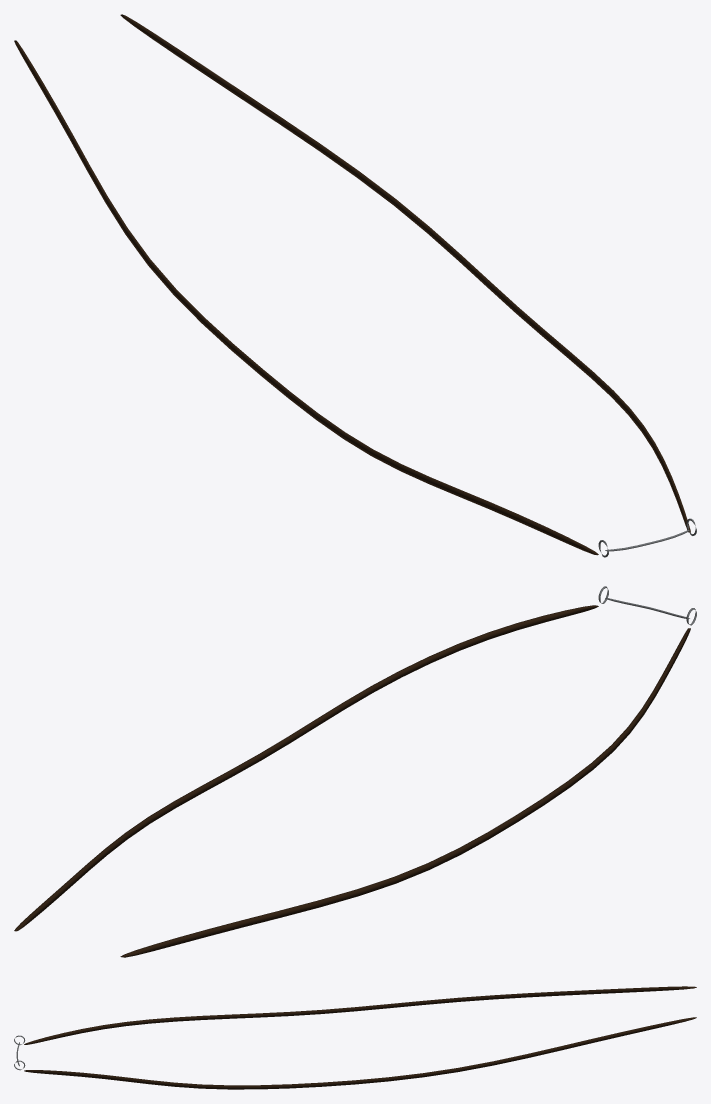
Rendered from frontier_caravan_reins_lod1.glb.
3 views of the same model, one above another, from view 1: azimuth 30°, elevation 25°; view 2: azimuth 150°, elevation 25°; view 3: azimuth 270°, elevation 25° (orthographic). The views are drawn at different scales.
Visible parts, largest first — view 1: frontier_caravan_reins_lod1; view 2: frontier_caravan_reins_lod1; view 3: frontier_caravan_reins_lod1.
Boxes of the visible parts, bbox=[...] form: frontier_caravan_reins_lod1: bbox=[14, 14, 696, 557]; frontier_caravan_reins_lod1: bbox=[14, 586, 696, 957]; frontier_caravan_reins_lod1: bbox=[14, 986, 696, 1089].
Bounding box in the file's own units: 1 × 0.3535 × 3.91.
Materials: 1 (1 with a texture image).
